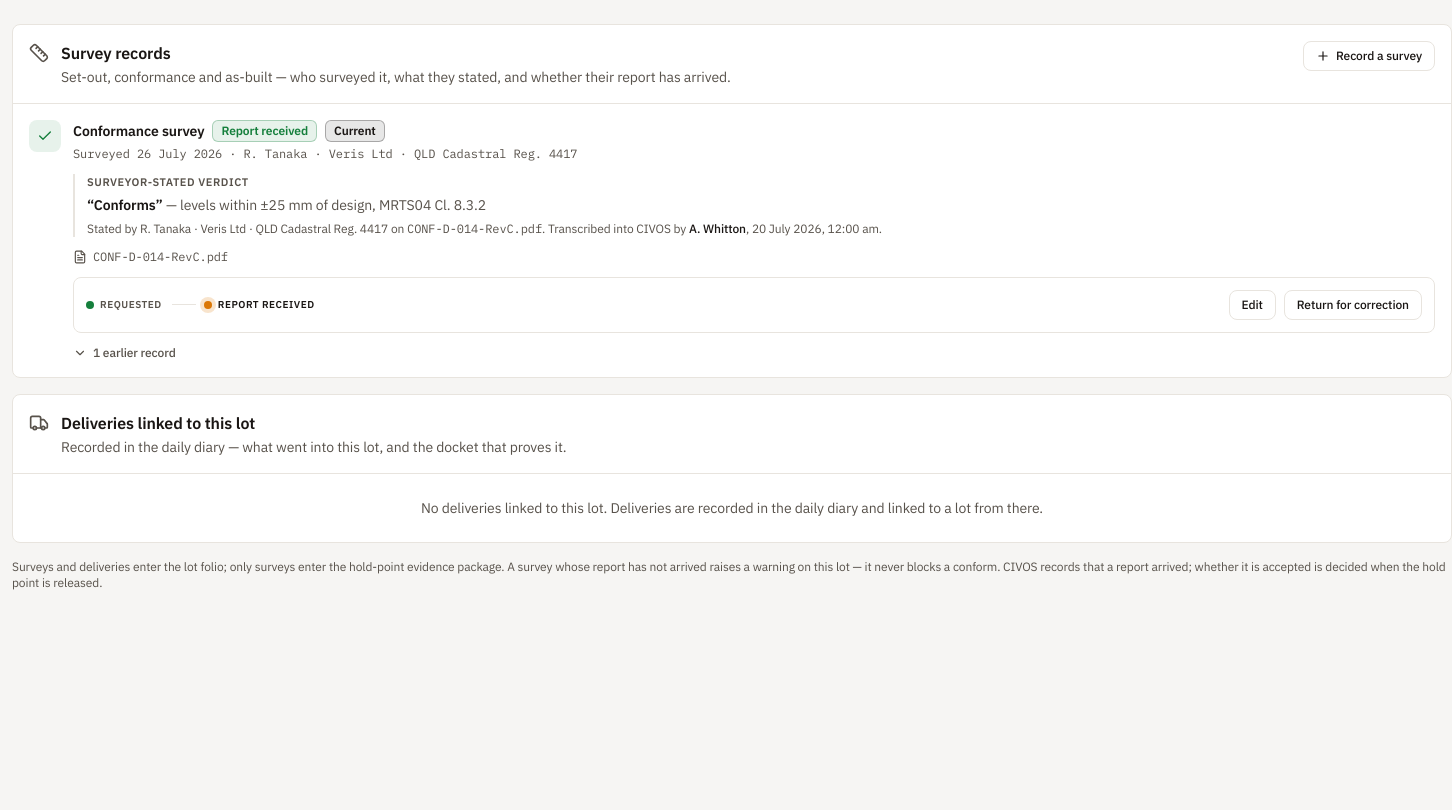
supersession › marks the current record and groups the prior one under it
The image size is (1452, 810).
Expected: the text "Current" is shown, [325,120,385,142]
Expected: the text "“Does not conform”" is not shown
What coordinates should you click on to do the following:
click the button "1 earlier record"
I would click on:
 (124, 352)
Its box is [73,344,176,360].
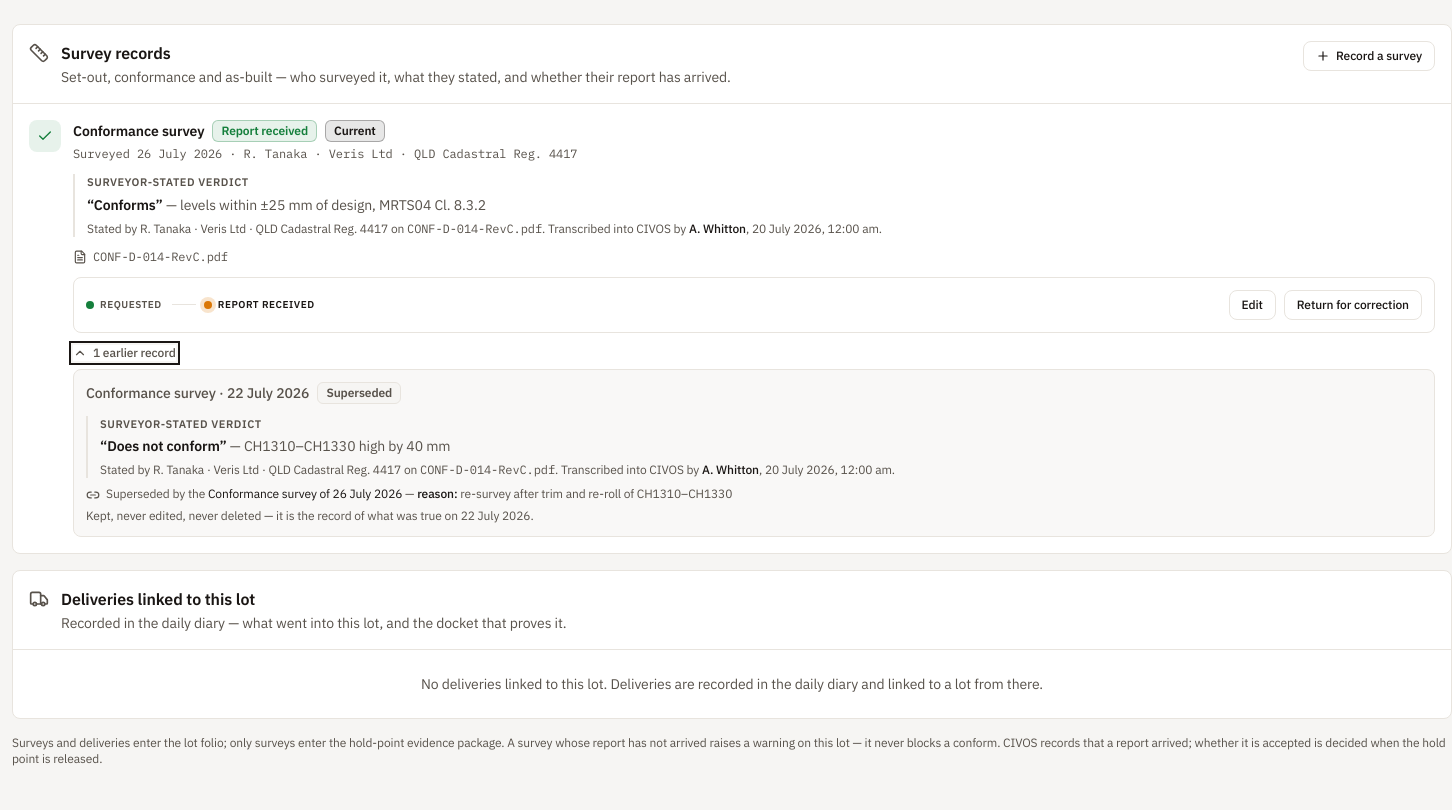
Now the text "“Does not conform”" is shown, box [100,437,227,455]
Now the text "Superseded" is shown, box [317,382,401,404]
Now the text "re-survey after trim and re-roll of CH1310–CH1330" is shown, box [460,486,732,501]
